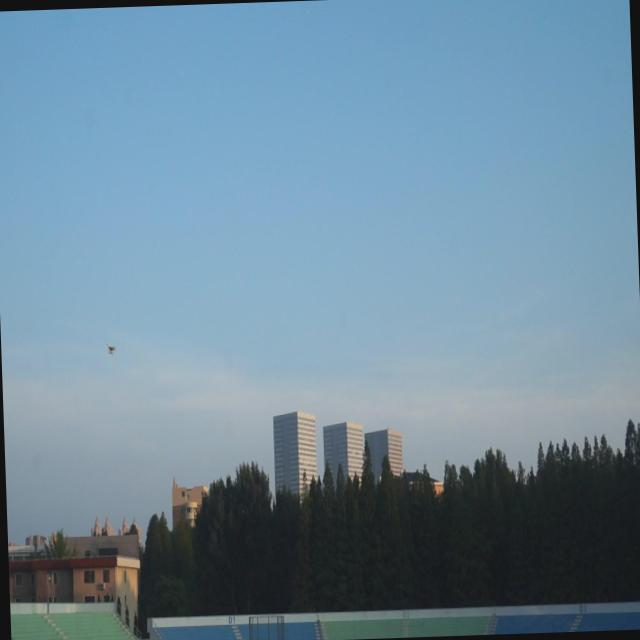drone: (105, 341, 116, 356)
